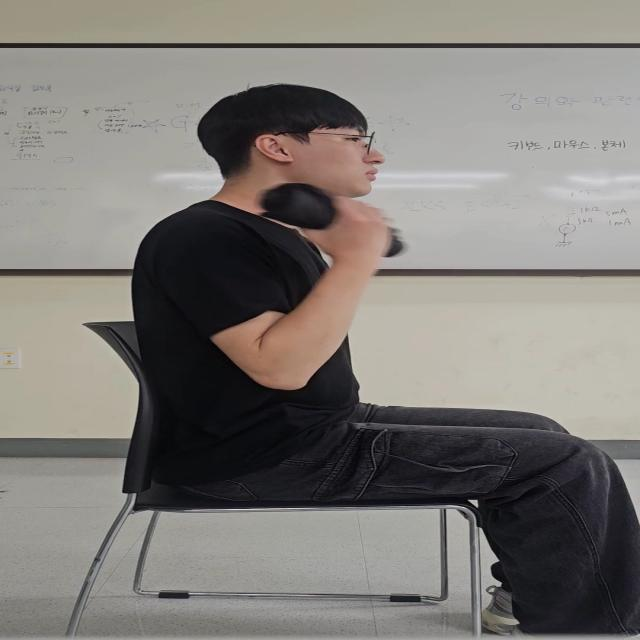curl: (160, 186, 418, 410)
